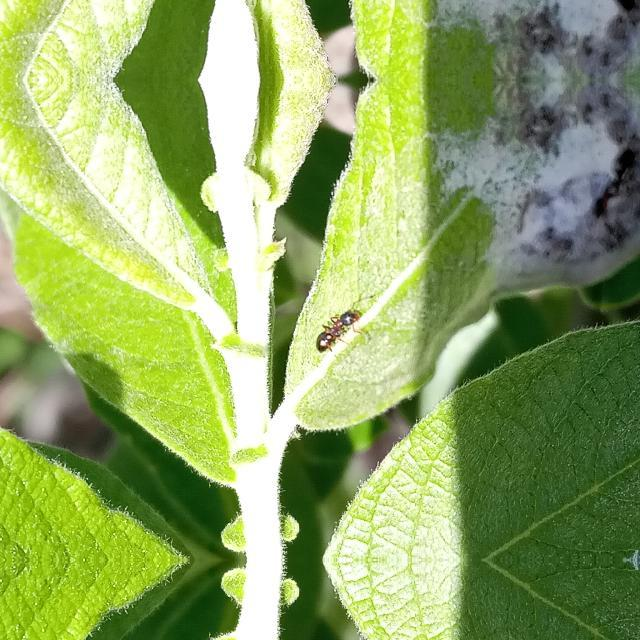Dolichoderus: (309, 302, 367, 356)
